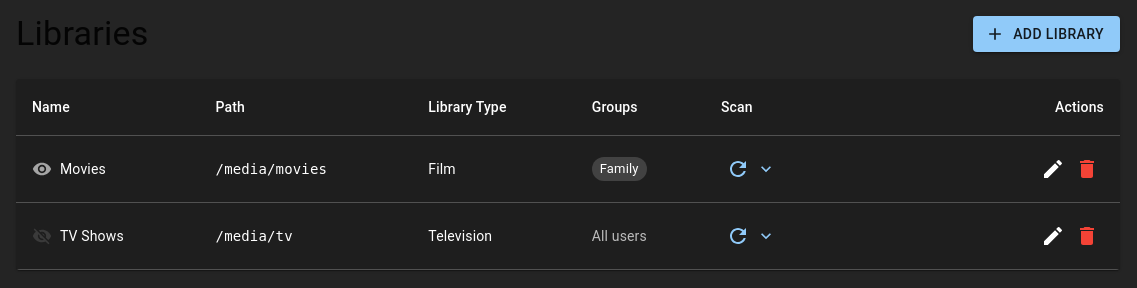
Test: LibrariesPage › delete operations › deletes library when confirmed
Expected: the text "Movies" is shown, [32,159,106,179]
Click the button with test id "DeleteIcon" at (1087, 169), box [1070,152,1104,186]
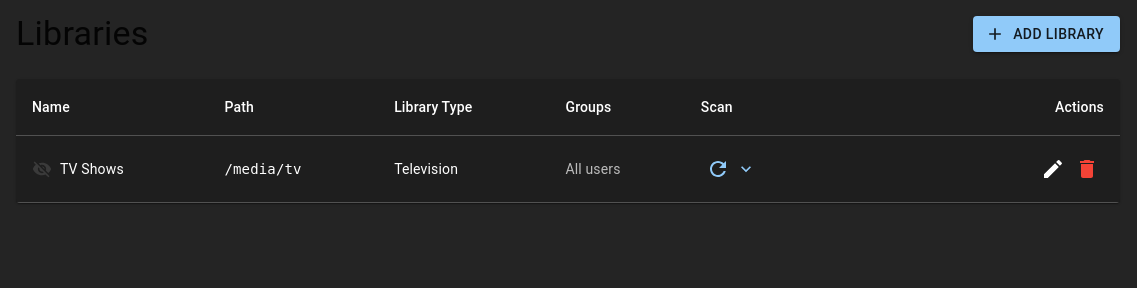
Now the text "Movies" is gone
